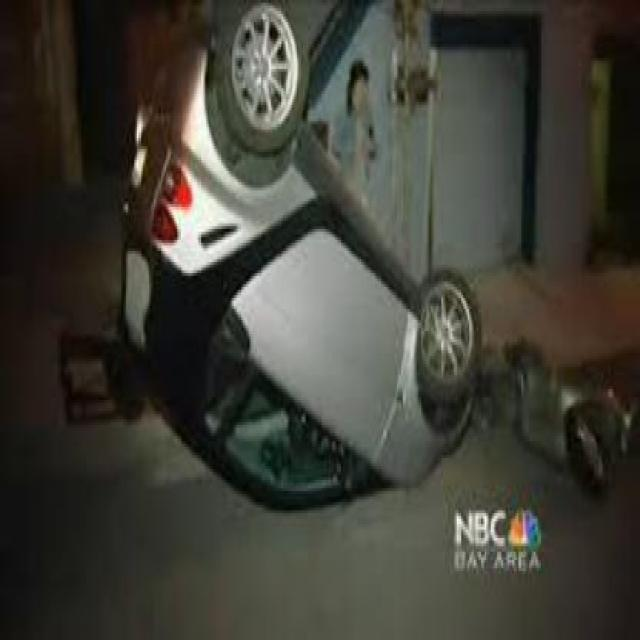accident: (109, 0, 497, 530)
